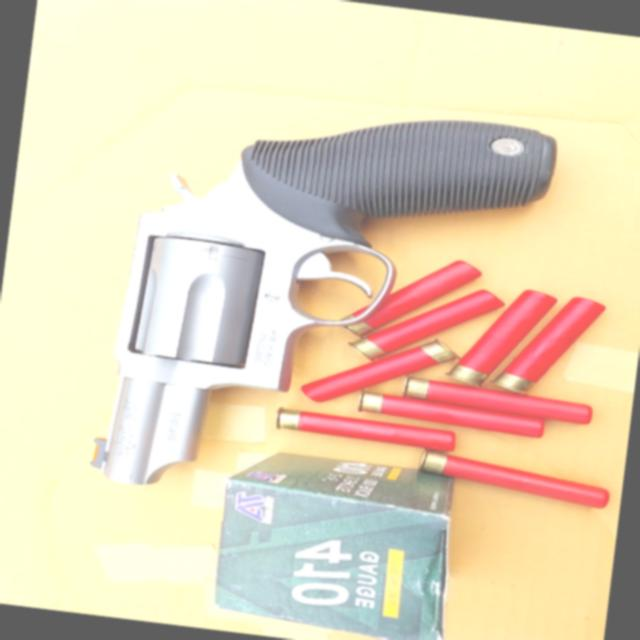revolver: (4, 58, 640, 552)
